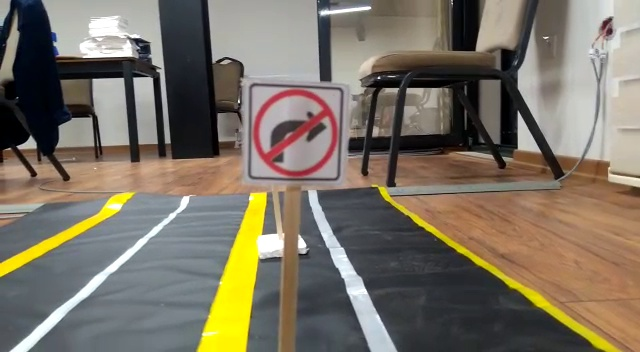saga_donulmez: (245, 80, 344, 182)
